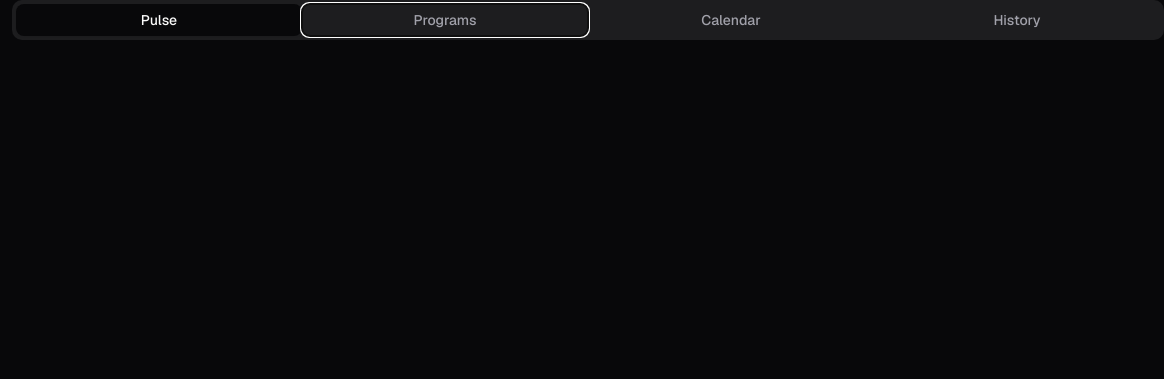
Test: WorkoutsTab — WK10-a in-context assign › 'Assign program' is disabled when the client has no active subscription
Click the tab "Programs".
click(445, 20)  # box x1=302 y1=4 x2=588 y2=36
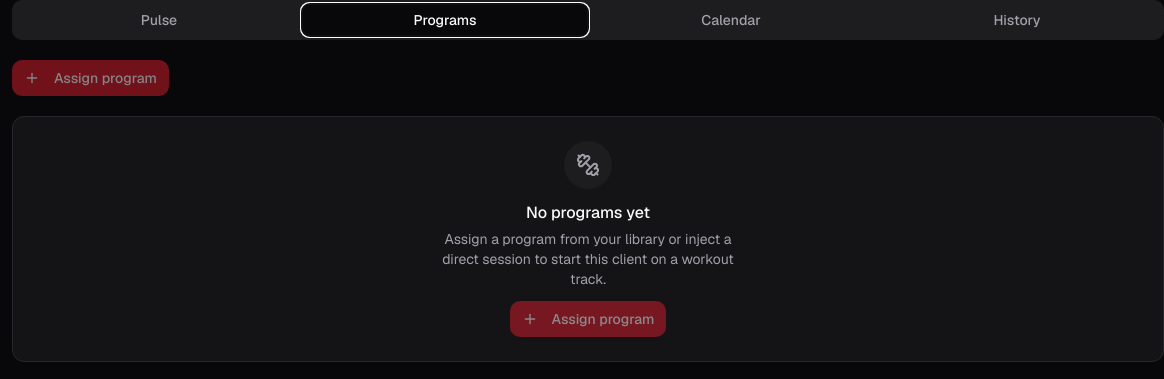
Expected: the 1st button "Assign program" is disabled, x1=12 y1=60 x2=169 y2=96
